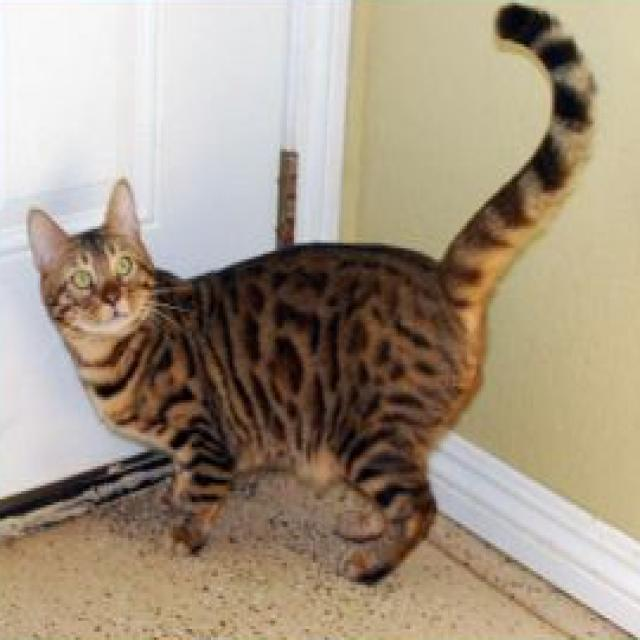Bengal: (24, 0, 602, 599)
